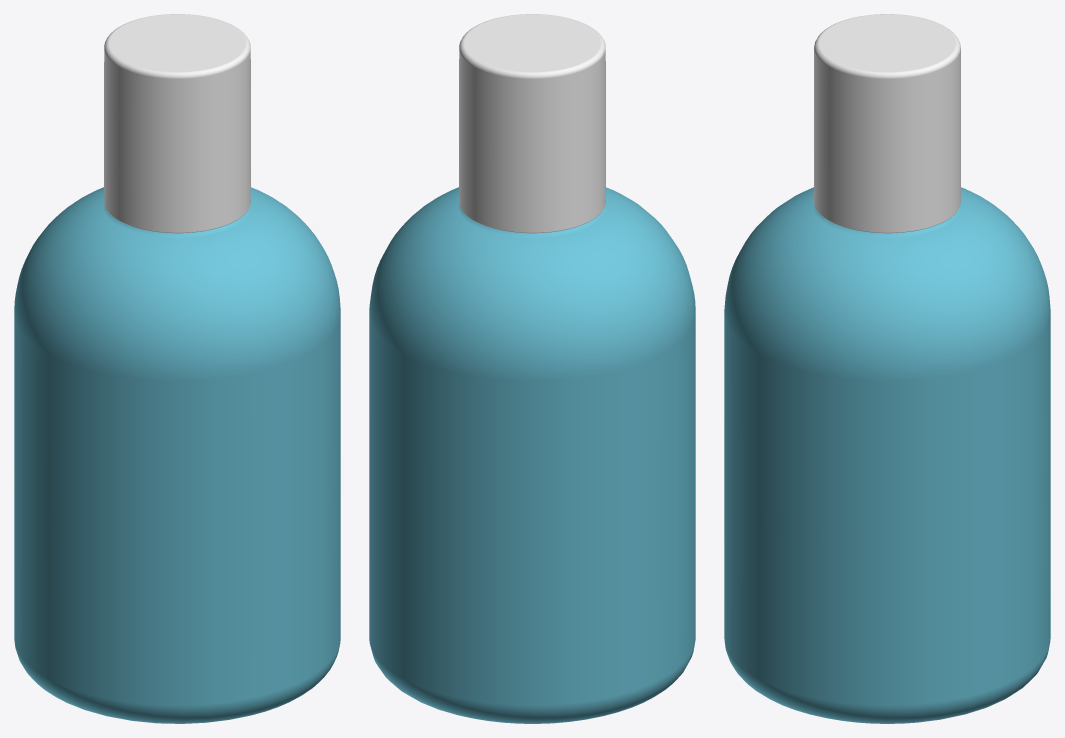
Rendered from uploads_files_4841582_le+labo_santal+33_perfume_3D+modeling_kathzerrato.fbx.
3 renders of one model, left to right at view 1: azimuth 30°, elevation 25°; view 2: azimuth 150°, elevation 25°; view 3: azimuth 270°, elevation 25°, orthographic.
Parts seen in each view (by area): view 1: cap, cap (1); view 2: cap, cap (1); view 3: cap, cap (1).
Part boxes in pixels (left/top/right/bottom): cap: left=14, top=187, right=340, bottom=723; cap (1): left=104, top=14, right=250, bottom=233; cap: left=369, top=187, right=695, bottom=723; cap (1): left=459, top=14, right=605, bottom=233; cap: left=724, top=187, right=1050, bottom=723; cap (1): left=814, top=14, right=960, bottom=233.
Bounding box in the file's own units: 60.88 × 128 × 60.88.
